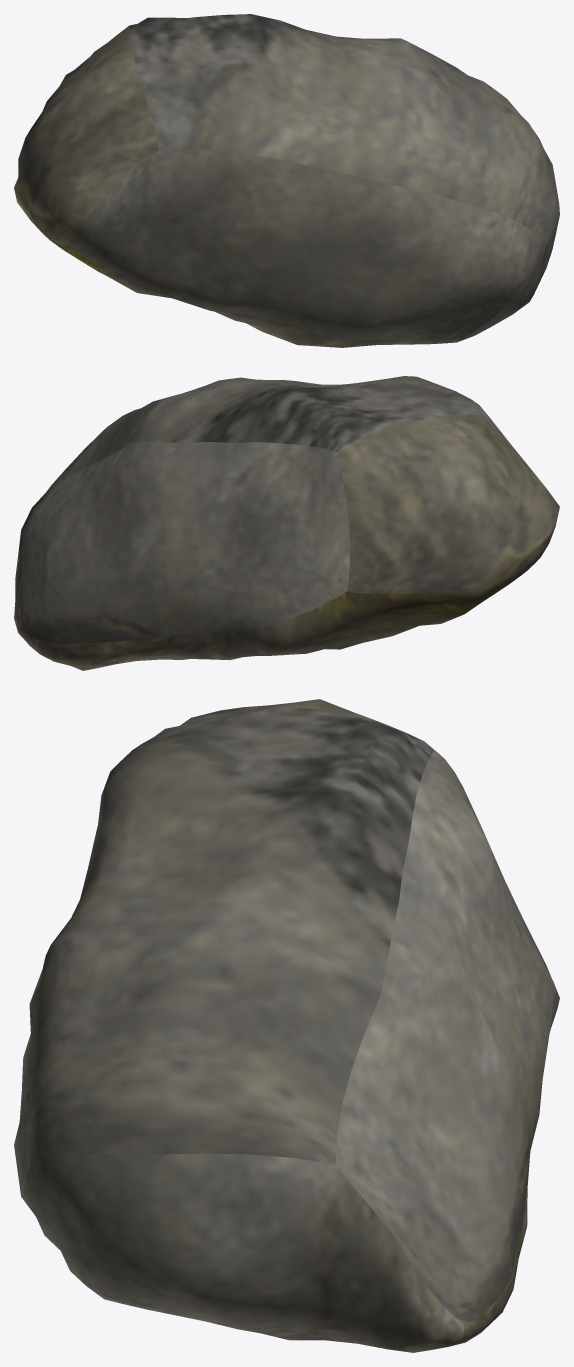
File: Rock3.fbx
3 views of the same model, one above another, from view 1: azimuth 30°, elevation 25°; view 2: azimuth 150°, elevation 25°; view 3: azimuth 270°, elevation 25° (orthographic). The views are drawn at different scales.
Parts seen in each view (by area): view 1: Rock2; view 2: Rock2; view 3: Rock2.
Part boxes in pixels (<box>): Rock2: <box>14,14,559,347</box>; Rock2: <box>14,376,559,670</box>; Rock2: <box>14,699,559,1352</box>.
Bounding box in the file's own units: 12.63 × 7.39 × 8.44.
